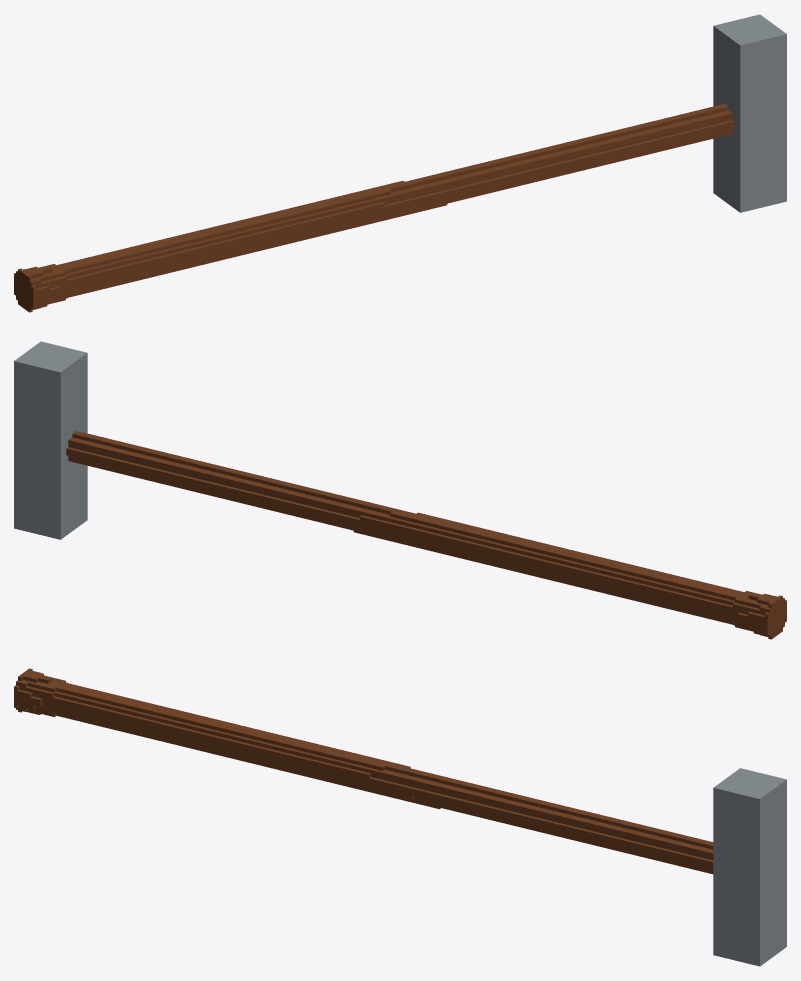
File: sledgehammer.glb
The picture shows the model from 3 angles, top to bottom: view 1: azimuth 30°, elevation 25°; view 2: azimuth 150°, elevation 25°; view 3: azimuth 330°, elevation 25°; orthographic projection.
Parts seen in each view (by area): view 1: sledgehammer:sledgehammer; view 2: sledgehammer:sledgehammer; view 3: sledgehammer:sledgehammer.
Part boxes in pixels (bbox=[...]): sledgehammer:sledgehammer: bbox=[14, 14, 786, 312]; sledgehammer:sledgehammer: bbox=[14, 341, 786, 639]; sledgehammer:sledgehammer: bbox=[14, 668, 786, 966].
Bounding box in the file's own units: 0.9 × 0.192 × 0.056.
